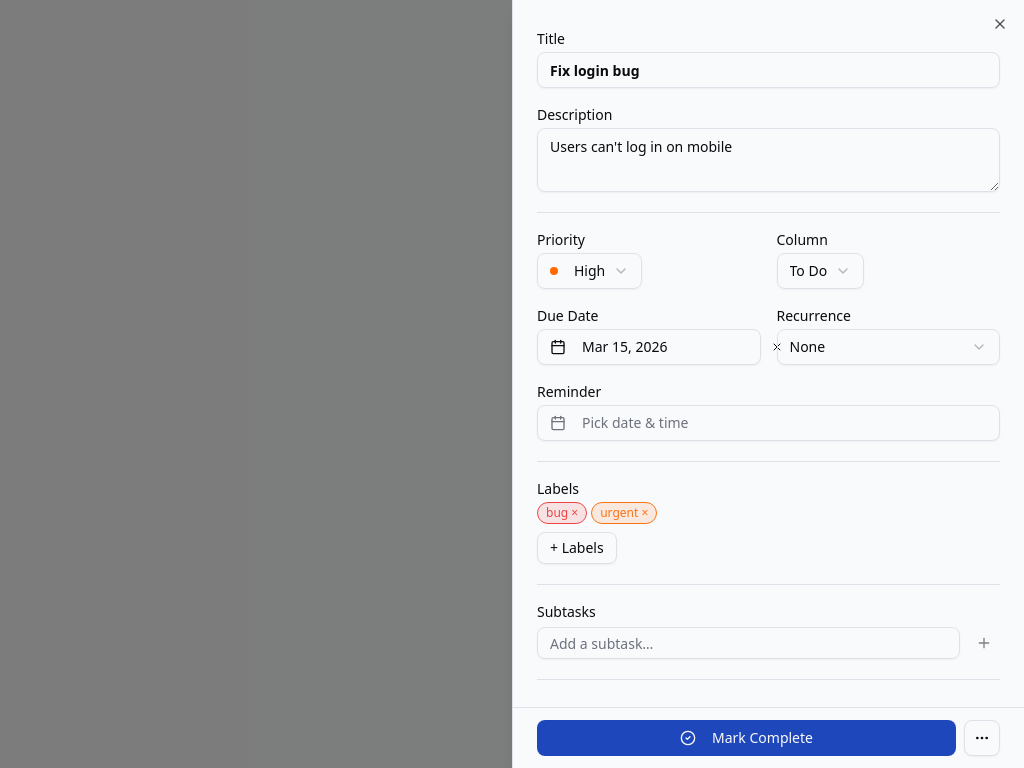
Scenario: TaskSheet › shows delete confirmation when Delete menu item is clicked
Click the button named "More actions". click: (982, 738)
box: x1=964 y1=720 x2=1000 y2=756
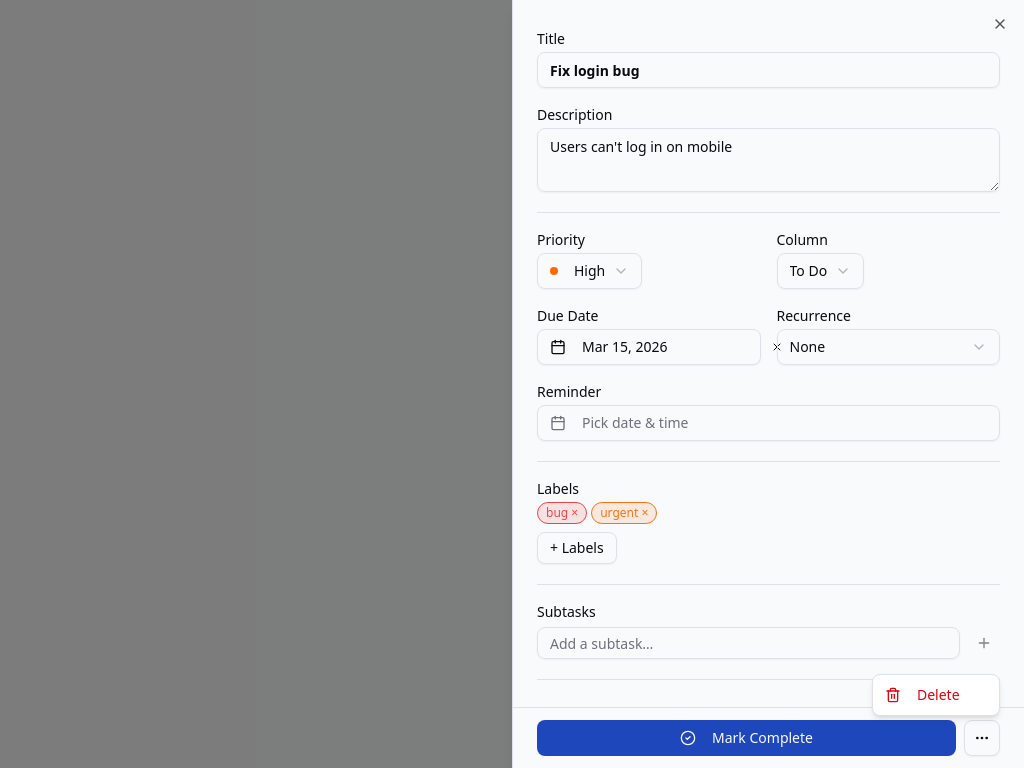
Click the menu item "Delete". click: (922, 694)
box: x1=885 y1=685 x2=960 y2=704
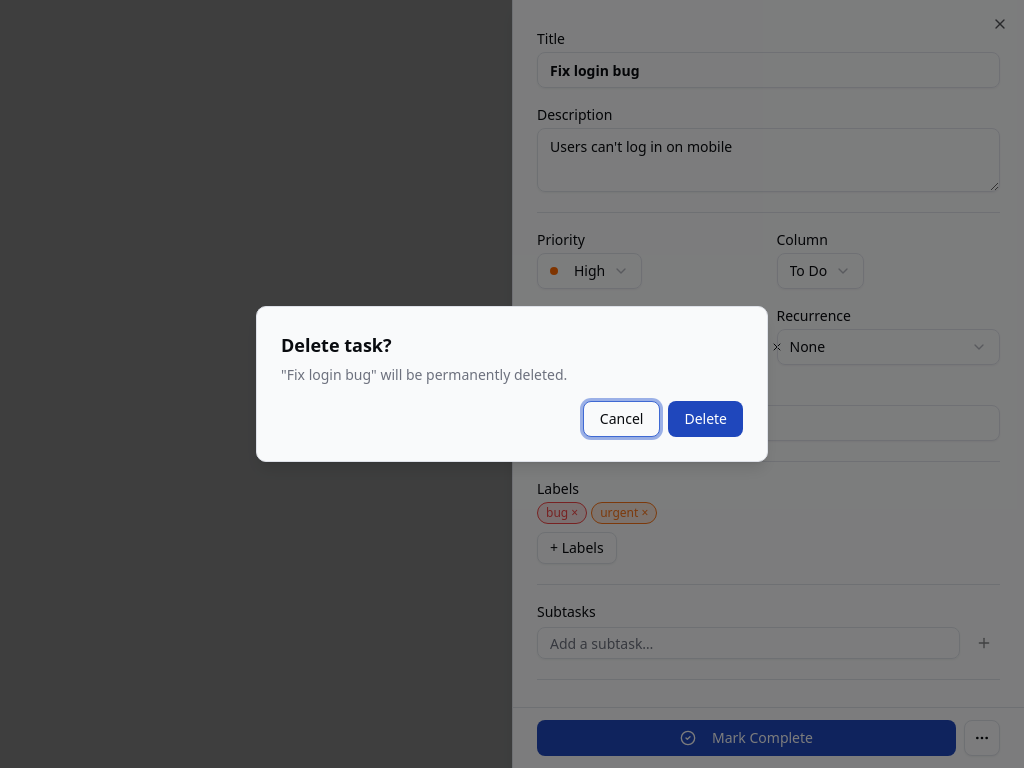
Result: the heading "Delete task?" is shown at x1=281 y1=331 x2=392 y2=359
Result: the text "\"Fix login bug\" will be permanently deleted." is shown at x1=281 y1=365 x2=567 y2=385
